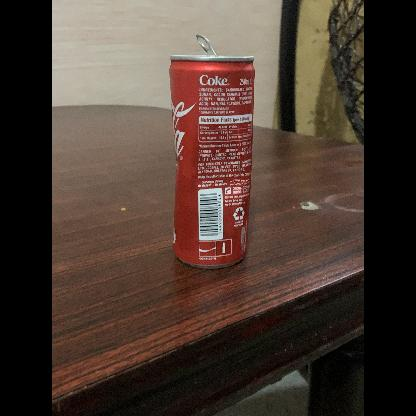Dent_Can: (175, 129, 215, 213), (213, 175, 248, 197)
Lid_Open: (187, 26, 233, 66)
Tin_Can: (160, 31, 260, 272)
